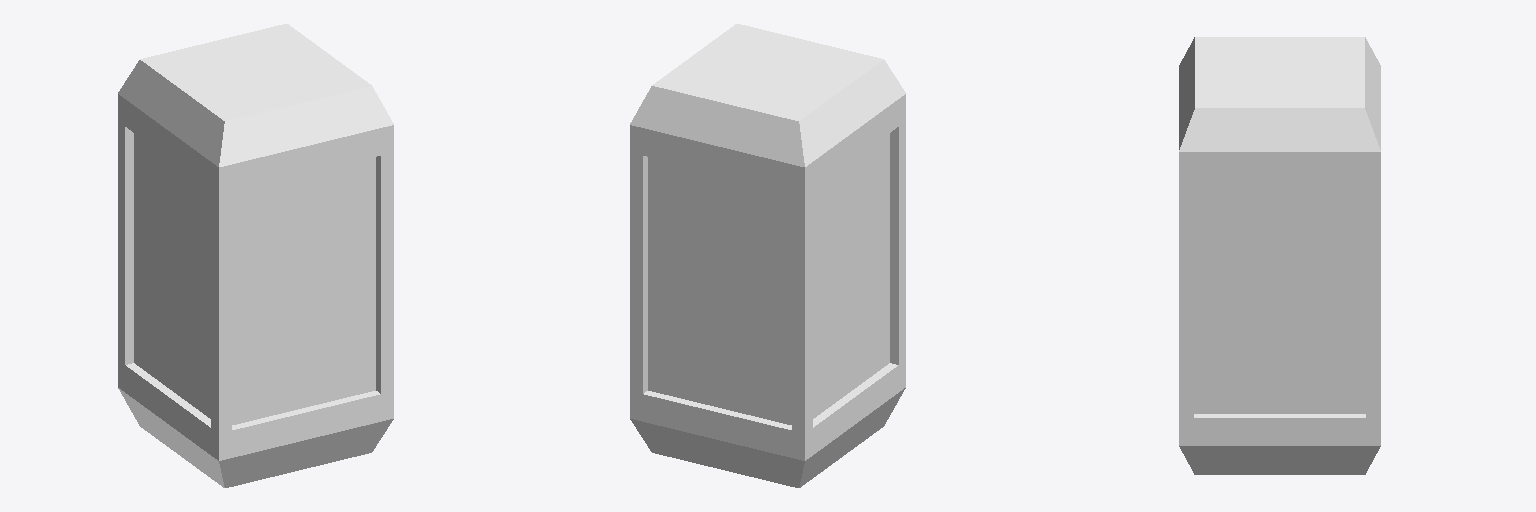
The picture shows the model from 3 angles: view 1: azimuth 30°, elevation 25°; view 2: azimuth 150°, elevation 25°; view 3: azimuth 270°, elevation 25°; orthographic projection.
Visible parts, largest first — view 1: Tile_Block_Cube; view 2: Tile_Block_Cube; view 3: Tile_Block_Cube.
Boxes of the visible parts, x1,y1,x2,y2 form: Tile_Block_Cube: [118, 24, 393, 487]; Tile_Block_Cube: [630, 24, 905, 487]; Tile_Block_Cube: [1179, 37, 1380, 474].
Bounding box in the file's own units: 2 × 4 × 2.
Materials: 1 (1 with a texture image).